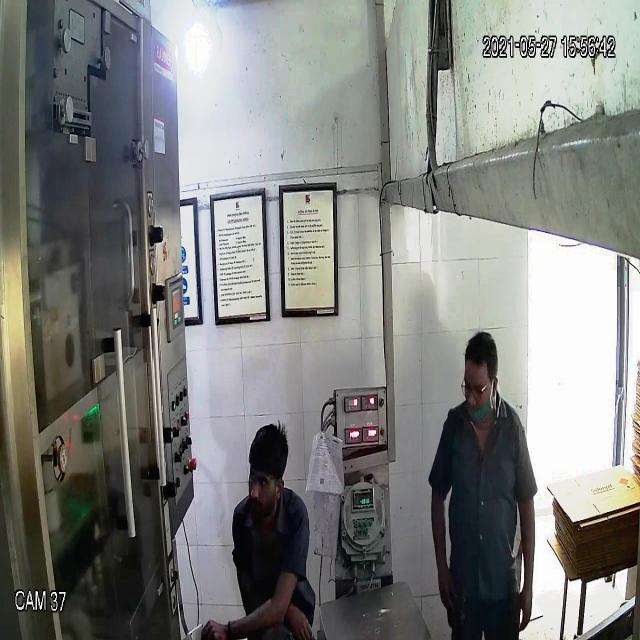glasses: (458, 374, 498, 406)
no-glass: (243, 465, 281, 492)
